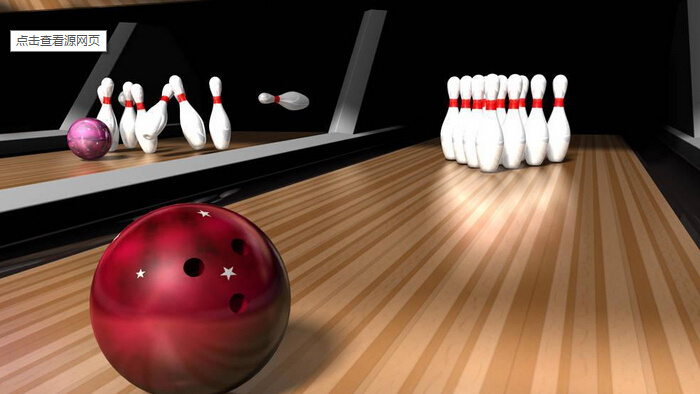ball: (90, 203, 291, 394), (68, 118, 112, 160)
